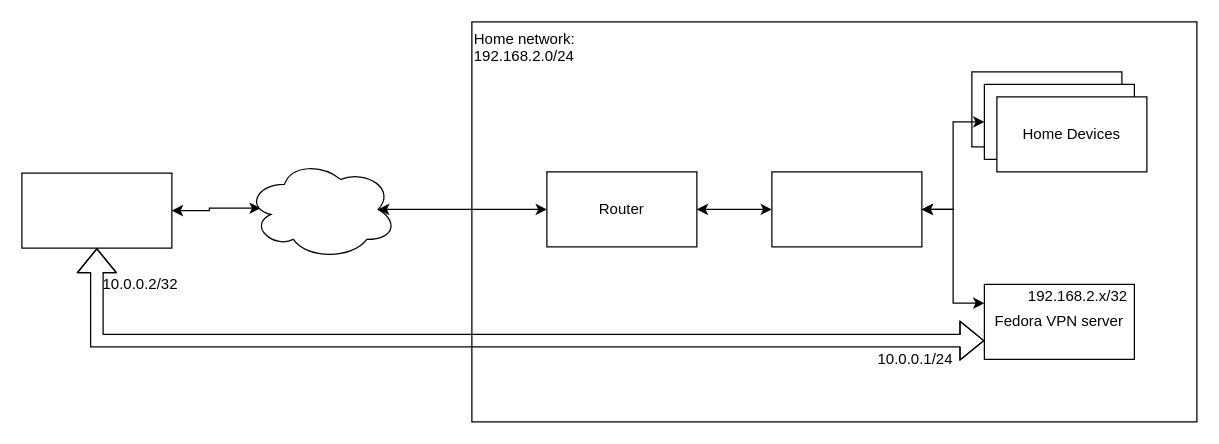
The diagram is 1219 pixels wide and 444 high, and some of its shapes have lost their labels. Each missing label, with the centre of its shape:
"Internet" goes at point (321, 208).
"Mobile Device" goes at point (96, 210).
"switch" goes at point (846, 209).
